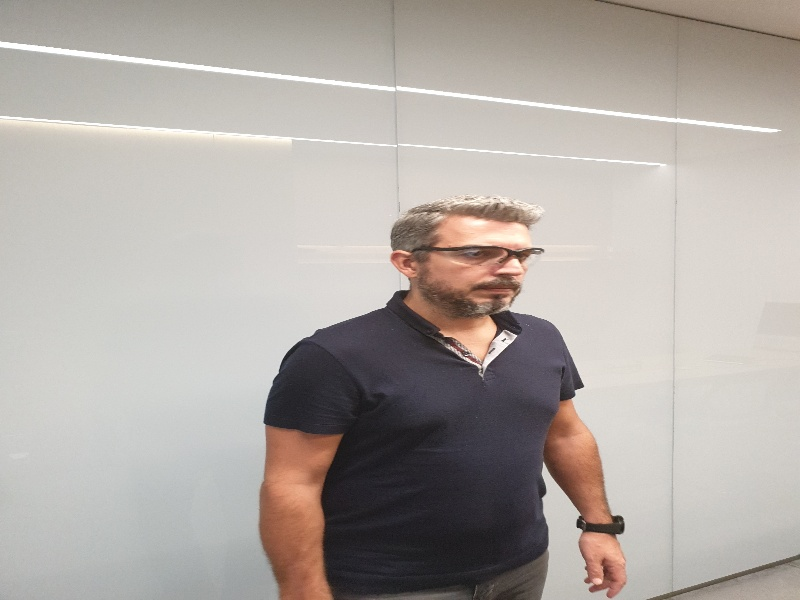Gozluk: (410, 243, 546, 268)
